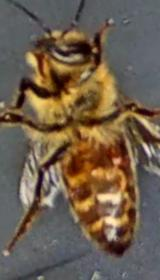varroa_mite: (101, 135, 130, 174)
